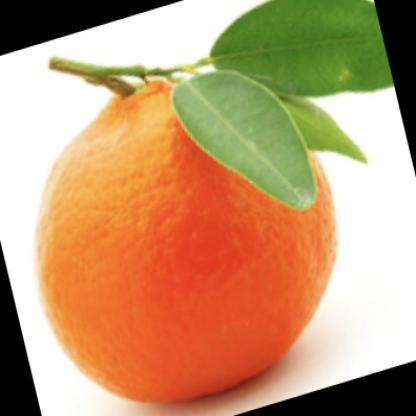fresh: (39, 75, 337, 398)
